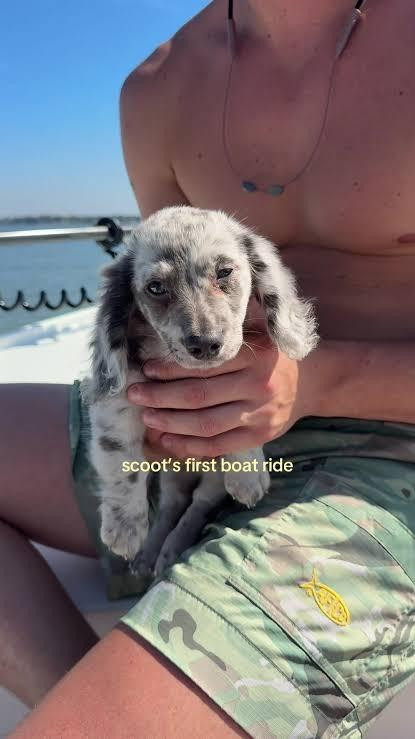puppy-dog: (83, 203, 318, 596)
